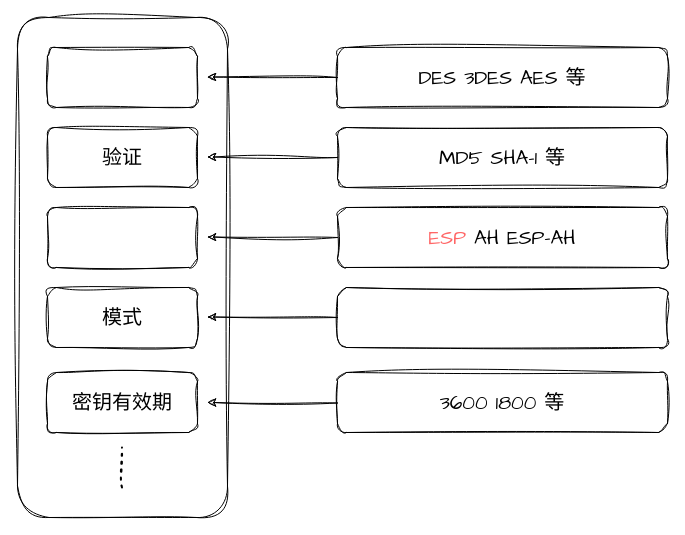
Some shapes in this 685 by 535 pixel diagram are drawn without their labels. Here are the shapes that lost their labels. From the top down, the centre of each, then its label:
point (122, 77): 加密
point (122, 237): 封装协议
point (502, 317): Transport Tunnel
